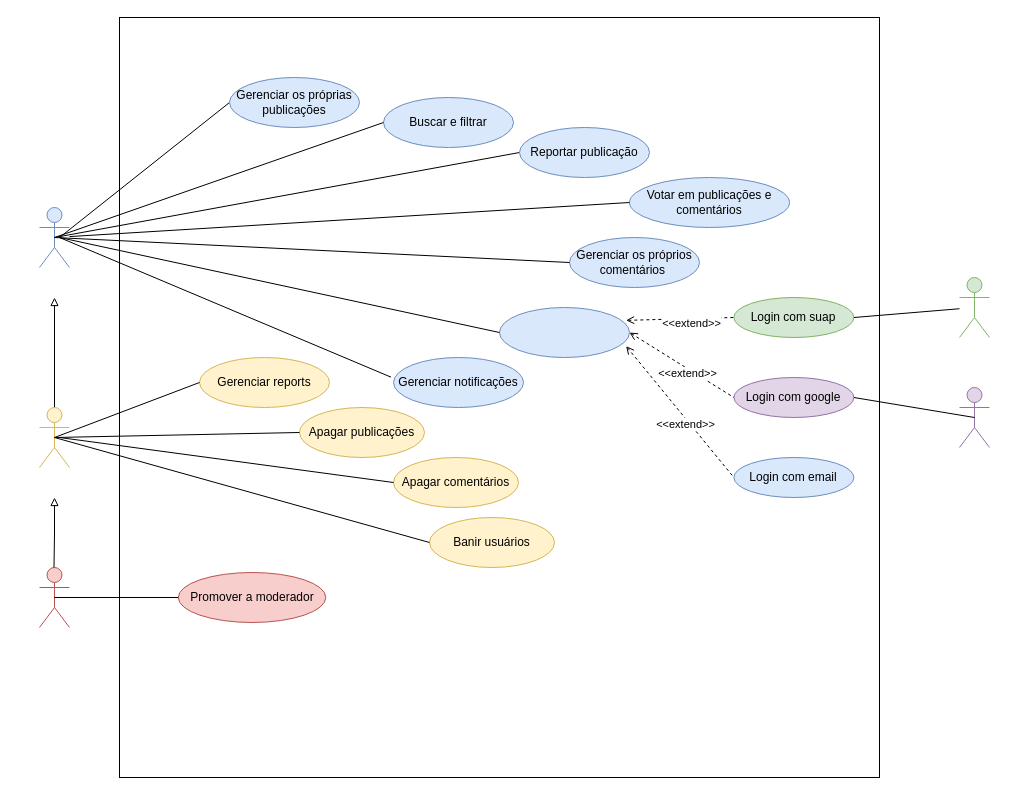
The diagram is 1011 pixels wide and 795 high, and some of its shapes have lost their labels. Here are the shapes that lost their labels. From the top down, the box of each, then its label:
(38, 206, 70, 268): Usuário
(958, 276, 990, 338): Suap
(498, 306, 630, 358): Logar de múltiplas formas
(38, 406, 70, 468): Moderador
(958, 386, 990, 448): Google
(38, 566, 70, 628): Administrador
